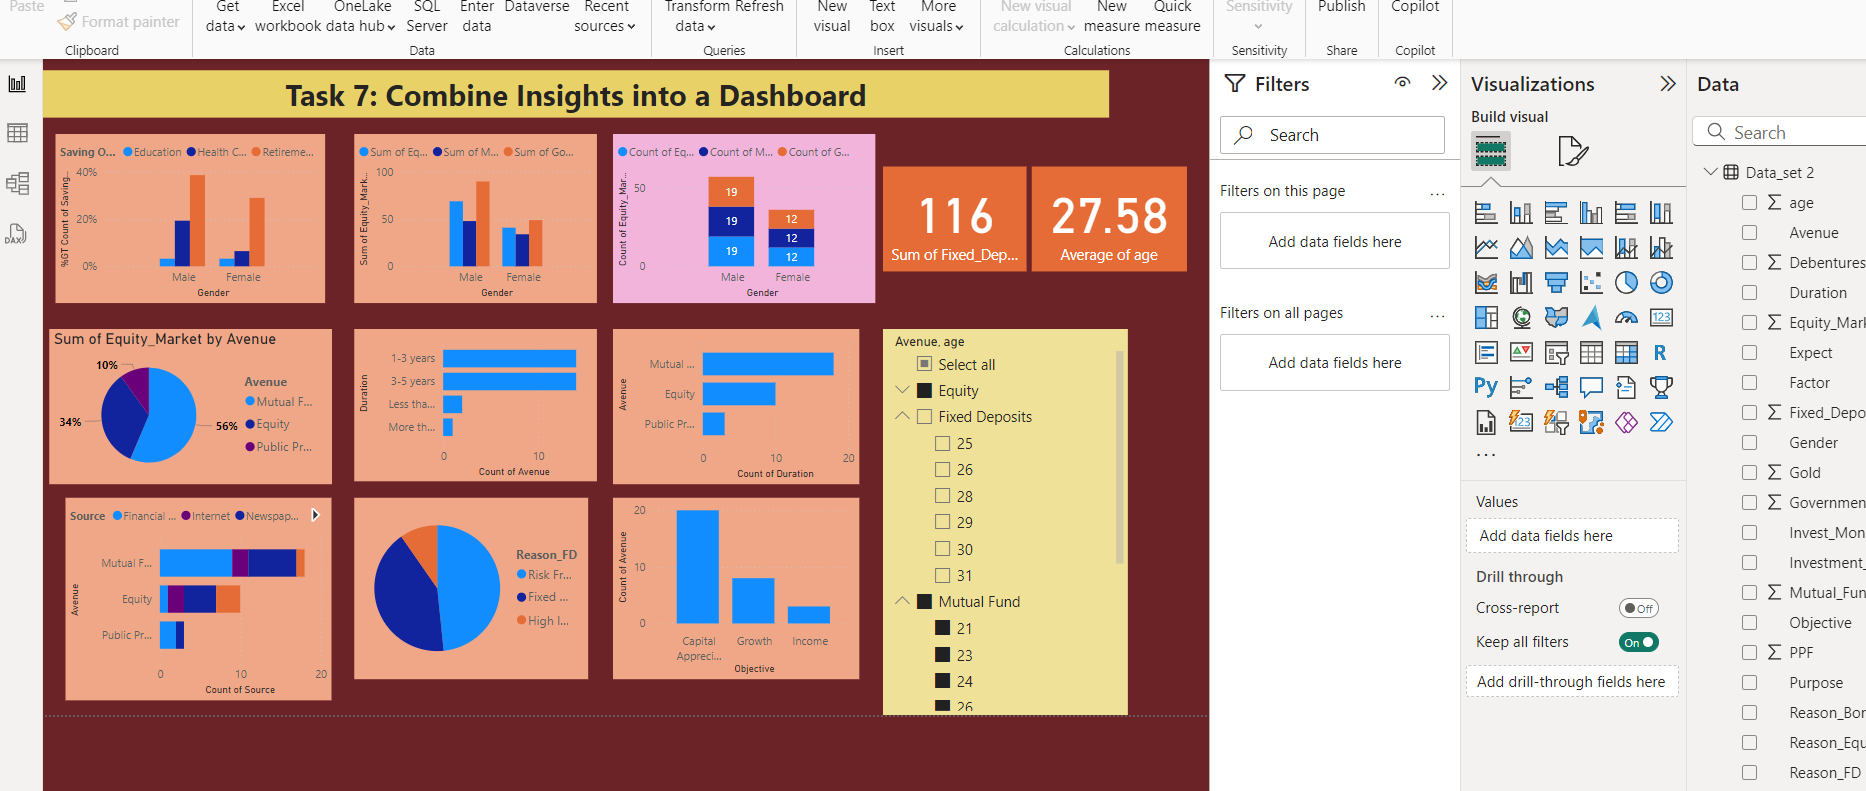

Layout of this report page (visuals, bound fields, positions):
{"tool":"powerbi","page":{"name":"Page 7","canvas":[1280,720],"ordinal":6},"visuals":[{"type":"card","fields":{"Values":["Avg(Data_set 2.age)"]},"box":[1085.4,118,170.2,115.3],"z":0},{"type":"clusteredColumnChart","fields":{"Category":["Data_set 2.Gender"],"Y":["CountNonNull(Data_set 2.Saving Objective)"],"Series":["Data_set 2.Saving Objective"]},"box":[13.7,82.3,296.4,185.2],"z":1000},{"type":"textbox","box":[0,12.3,1170.5,52.1],"z":2000},{"type":"pieChart","fields":{"Category":["Data_set 2.Avenue"],"Y":["Sum(Data_set 2.Equity_Market)"]},"box":[6.9,296.4,310.1,170.2],"z":3000},{"type":"columnChart","fields":{"Y":["CountNonNull(Data_set 2.Equity_Market)","CountNonNull(Data_set 2.Mutual_Funds)","CountNonNull(Data_set 2.Government_Bonds)"],"Category":["Data_set 2.Gender"]},"box":[625.7,82.3,288.2,185.2],"z":4000},{"type":"clusteredColumnChart","fields":{"Category":["Data_set 2.Gender"],"Y":["Sum(Data_set 2.Equity_Market)","Sum(Data_set 2.Mutual_Funds)","Sum(Data_set 2.Government_Bonds)"]},"box":[341.7,82.3,266.2,185.2],"z":5000},{"type":"columnChart","fields":{"Category":["Data_set 2.Objective"],"Y":["CountNonNull(Data_set 2.Avenue)"]},"box":[625.7,481.6,270.3,199],"z":6000},{"type":"card","fields":{"Values":["Sum(Data_set 2.Fixed_Deposits)"]},"box":[922.1,118,157.8,115.3],"z":7000},{"type":"barChart","fields":{"Category":["Data_set 2.Duration"],"Y":["CountNonNull(Data_set 2.Avenue)"]},"box":[341.7,296.4,266.2,167.4],"z":7001},{"type":"barChart","fields":{"Category":["Data_set 2.Avenue"],"Y":["CountNonNull(Data_set 2.Duration)"]},"box":[625.7,296.4,270.3,170.2],"z":7002},{"type":"pieChart","fields":{"Category":["Data_set 2.Reason_FD"],"Y":["CountNonNull(Data_set 2.Reason_FD)"]},"box":[341.7,481.6,256.6,199],"z":7003},{"type":"barChart","fields":{"Category":["Data_set 2.Avenue"],"Y":["CountNonNull(Data_set 2.Source)"],"Series":["Data_set 2.Source"]},"box":[24.7,481.6,292.3,222.3],"z":7004},{"type":"slicer","fields":{"Values":["Data_set 2.Avenue","Data_set 2.age"]},"box":[922.1,296.4,269,424],"z":7005}]}

Visuals, with their boxes on the page's 1280x720 design canvas (x1, y1, x2, y2). These are canvas units, not pixel positions in the 1866x791 screenshot, which may show the page scaled, cropped or inside an application window:
card - Avg(Data_set 2.age): bbox=[1085, 118, 1256, 233]
clusteredColumnChart - Data_set 2.Gender x CountNonNull(Data_set 2.Saving Objective): bbox=[14, 82, 310, 268]
textbox: bbox=[0, 12, 1170, 64]
pieChart - Data_set 2.Avenue x Sum(Data_set 2.Equity_Market): bbox=[7, 296, 317, 467]
columnChart - CountNonNull(Data_set 2.Equity_Market) x CountNonNull(Data_set 2.Mutual_Funds): bbox=[626, 82, 914, 268]
clusteredColumnChart - Data_set 2.Gender x Sum(Data_set 2.Equity_Market): bbox=[342, 82, 608, 268]
columnChart - Data_set 2.Objective x CountNonNull(Data_set 2.Avenue): bbox=[626, 482, 896, 681]
card - Sum(Data_set 2.Fixed_Deposits): bbox=[922, 118, 1080, 233]
barChart - Data_set 2.Duration x CountNonNull(Data_set 2.Avenue): bbox=[342, 296, 608, 464]
barChart - Data_set 2.Avenue x CountNonNull(Data_set 2.Duration): bbox=[626, 296, 896, 467]
pieChart - Data_set 2.Reason_FD x CountNonNull(Data_set 2.Reason_FD): bbox=[342, 482, 598, 681]
barChart - Data_set 2.Avenue x CountNonNull(Data_set 2.Source): bbox=[25, 482, 317, 704]
slicer - Data_set 2.Avenue x Data_set 2.age: bbox=[922, 296, 1191, 720]
